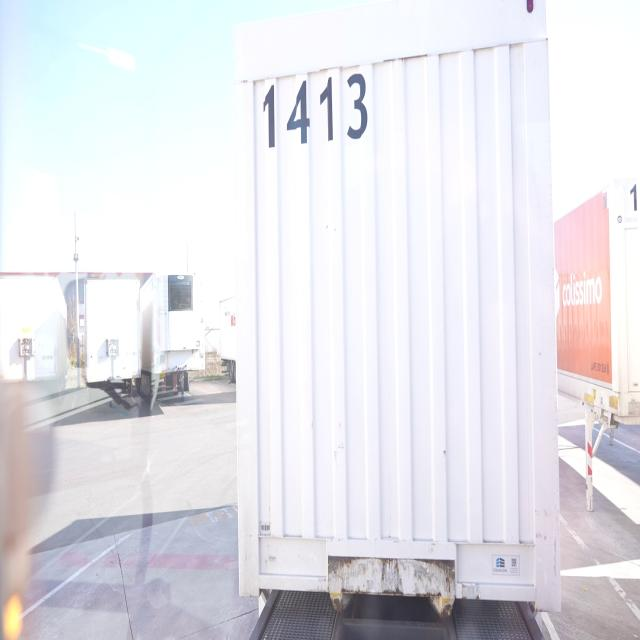Code: (258, 70, 372, 151)
